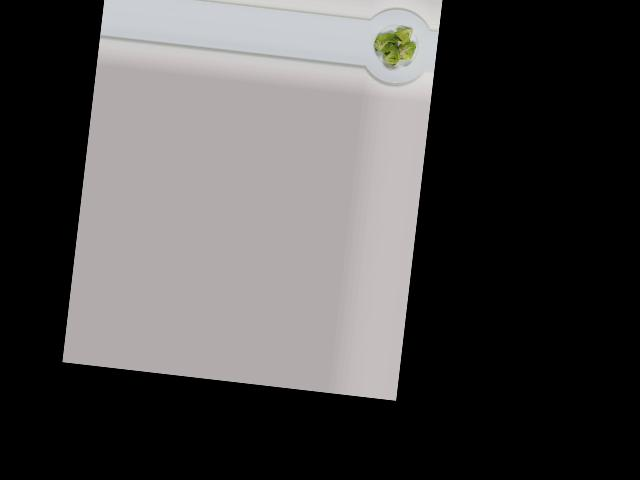lettuce: (367, 22, 417, 70)
